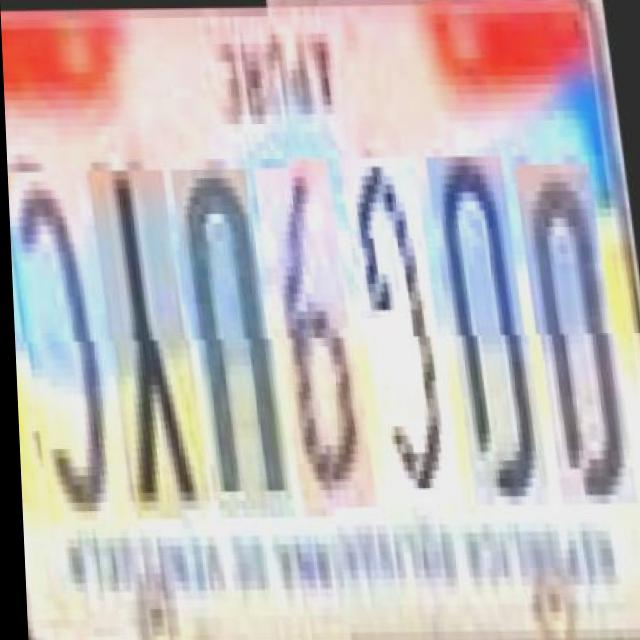0: (435, 156, 545, 505), (521, 163, 632, 504)
9: (260, 157, 372, 507)
c: (7, 161, 119, 510)
g: (347, 157, 458, 507)
u: (177, 159, 289, 509)
y: (95, 160, 207, 509)
